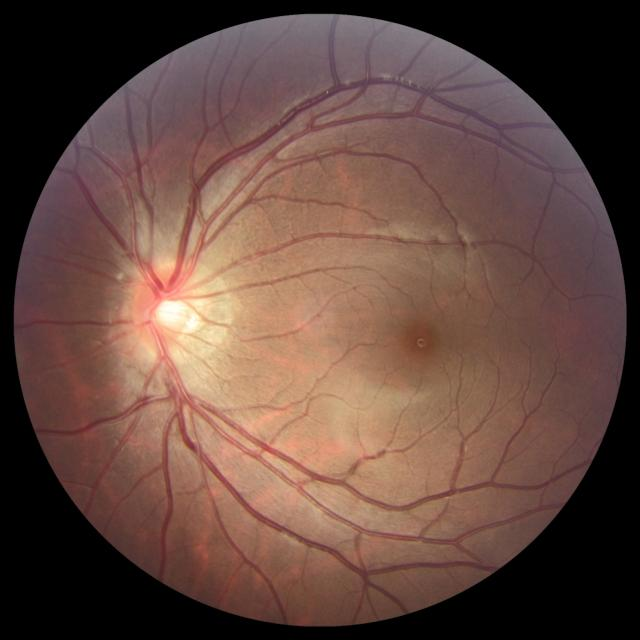OC: (151, 294, 185, 328)
OD: (133, 262, 201, 356)
